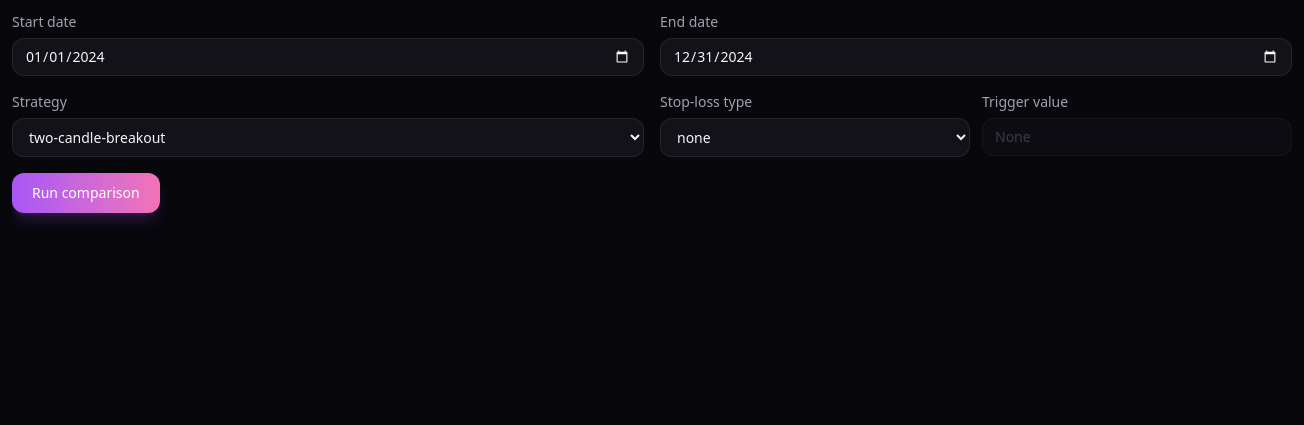
Test: StrategyComparison › renders the challenger error and the baseline result independently when only the challenger fails
The width and height of the screenshot is (1304, 425).
Check: the dropdown labelled "Strategy" is enabled, box [12,118,644,157]
Check: the dropdown labelled "Stop-loss type" is enabled, box [660,118,970,157]
What coordinates should you click on to do the following:
click the button "Run comparison"
I would click on:
 (86, 193)
Its box is [12,173,160,213].
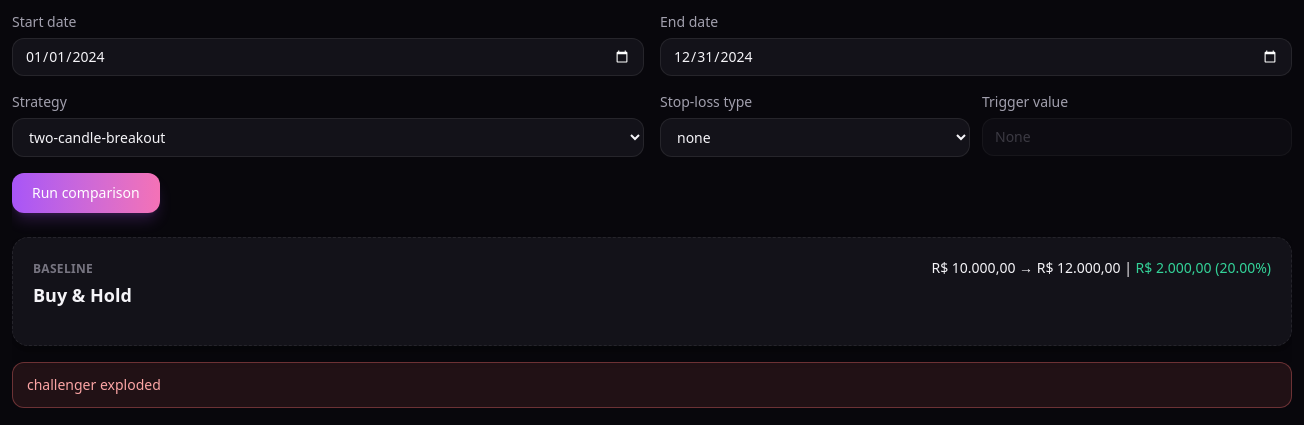
Check: the text "challenger exploded" is shown, box [12,362,1292,408]
Check: the heading "Buy & Hold" is shown, box [33,281,132,309]
